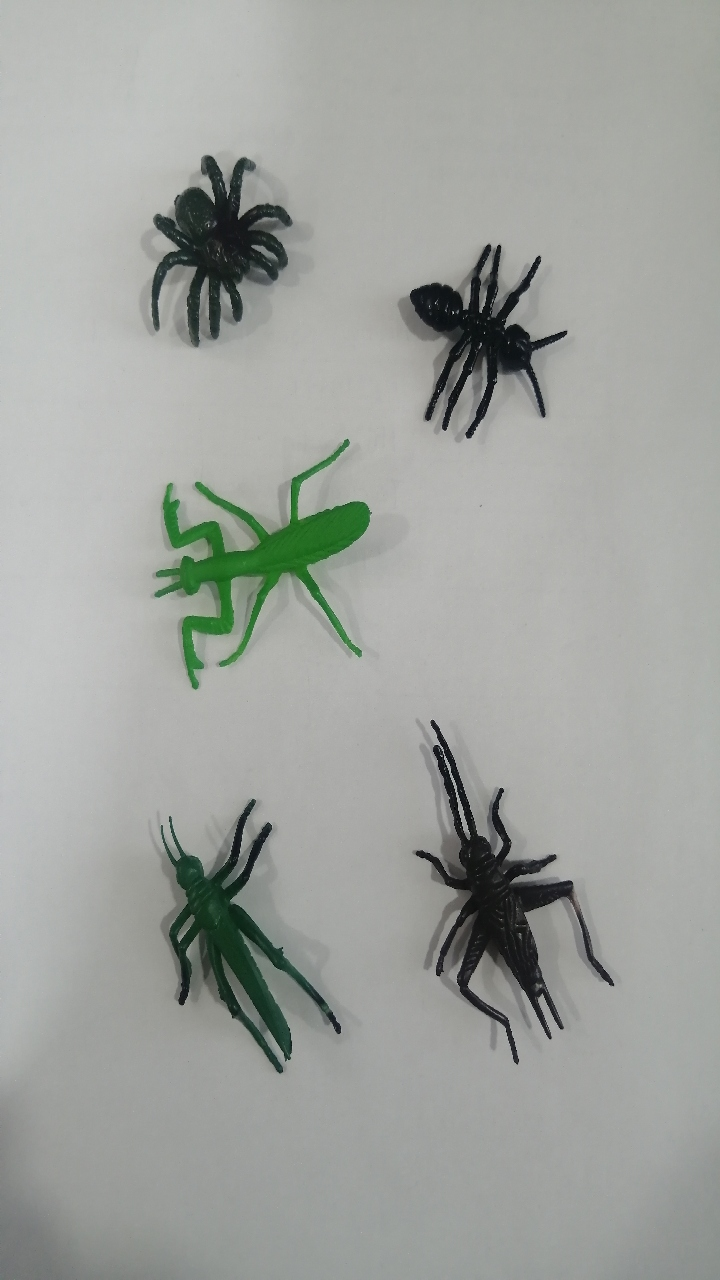intruso: (389, 689, 664, 1089), (88, 771, 366, 1097), (97, 415, 418, 692), (380, 202, 584, 485), (98, 119, 326, 360)
